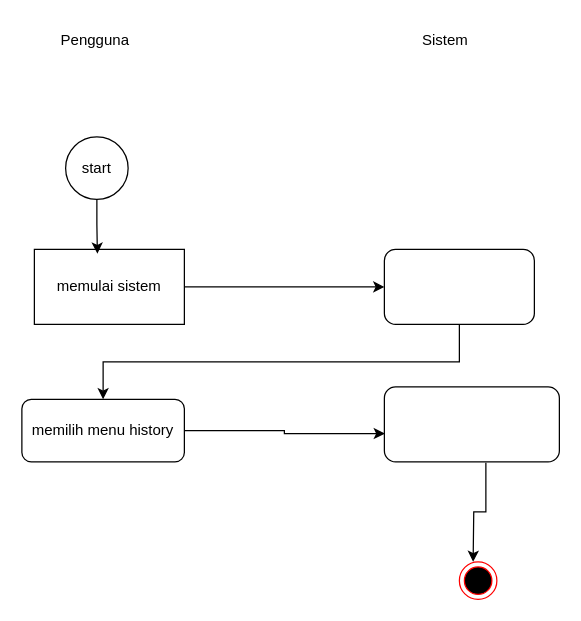
Image size: 581x621. Some labels were removed from this diagram. The shapes that lost their labels are listed below. From the top down, each one's centre as x and y in pixels, then its label:
the point at 458,286: menampilkan menu
the point at 471,424: menampilkan laporan yang sudah di bayar
